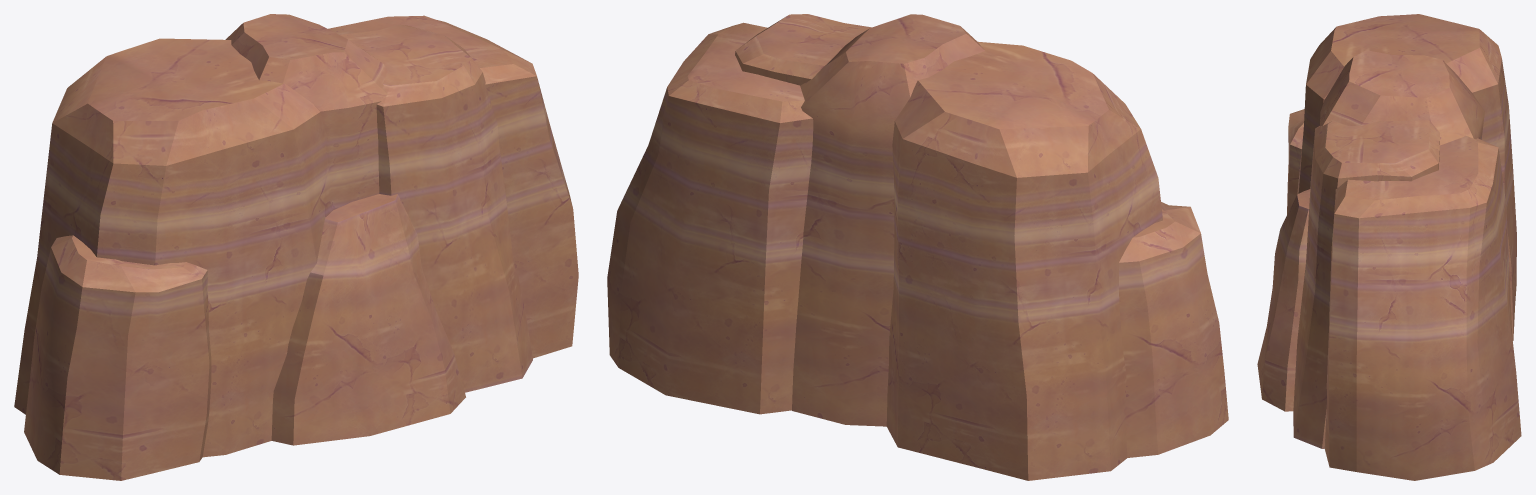
Rendered from SM_Mesa02.fbx.
3 views of the same model, side by side, from view 1: azimuth 30°, elevation 25°; view 2: azimuth 150°, elevation 25°; view 3: azimuth 270°, elevation 25° (orthographic). The views are drawn at different scales.
Visible parts, largest first — view 1: SM_Mesa02; view 2: SM_Mesa02; view 3: SM_Mesa02.
Boxes of the visible parts, x1,y1,x2,y2 form: SM_Mesa02: (14, 14, 578, 480); SM_Mesa02: (607, 14, 1228, 480); SM_Mesa02: (1257, 14, 1521, 480).
Size of the model in its own units: 2191 by 1303 by 1047.
